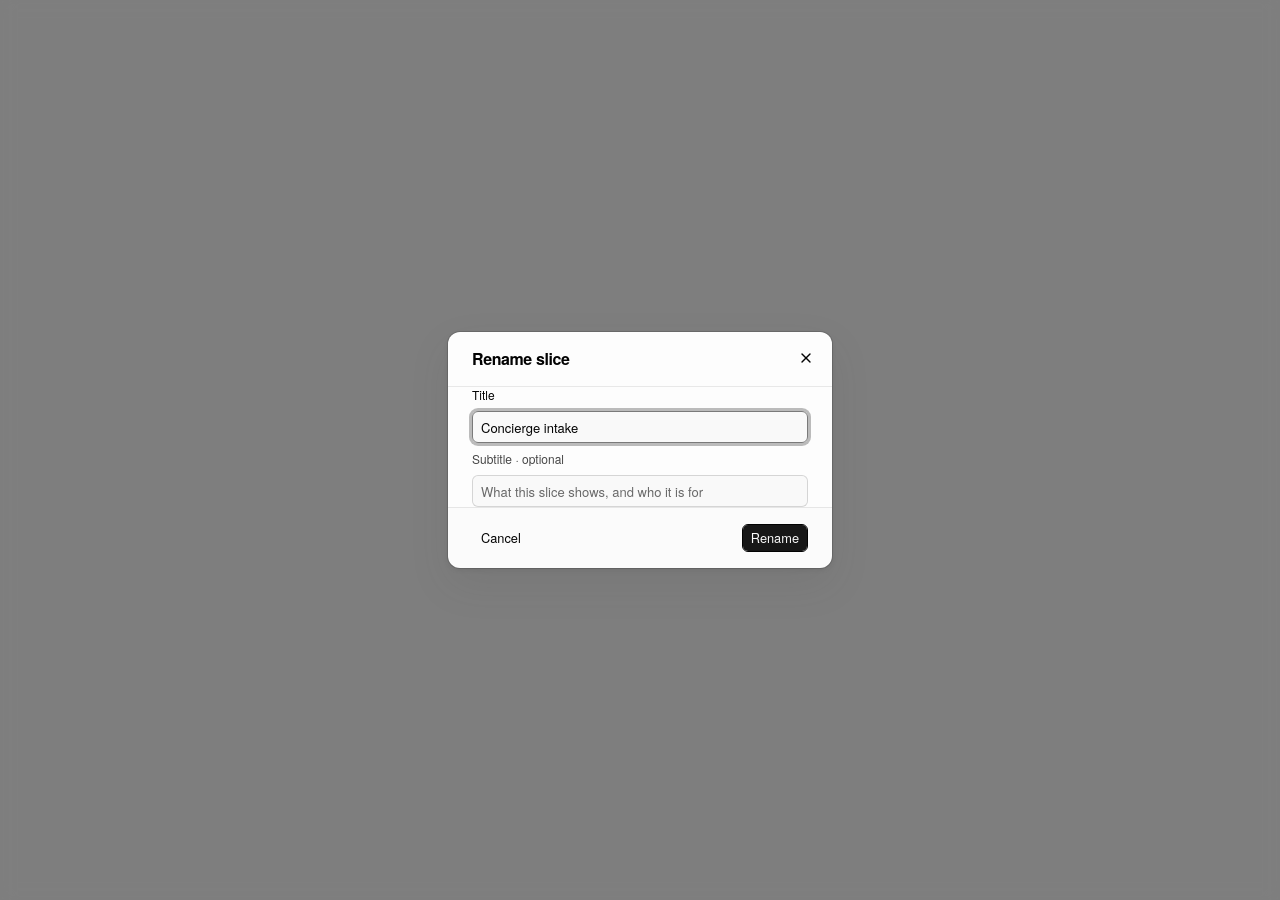
refuses a rename typed over a title someone else has since changed
Replace the text in the field labelled "Title" with "Concierge intake (v2)" at (640, 427), box [472,411,808,443]
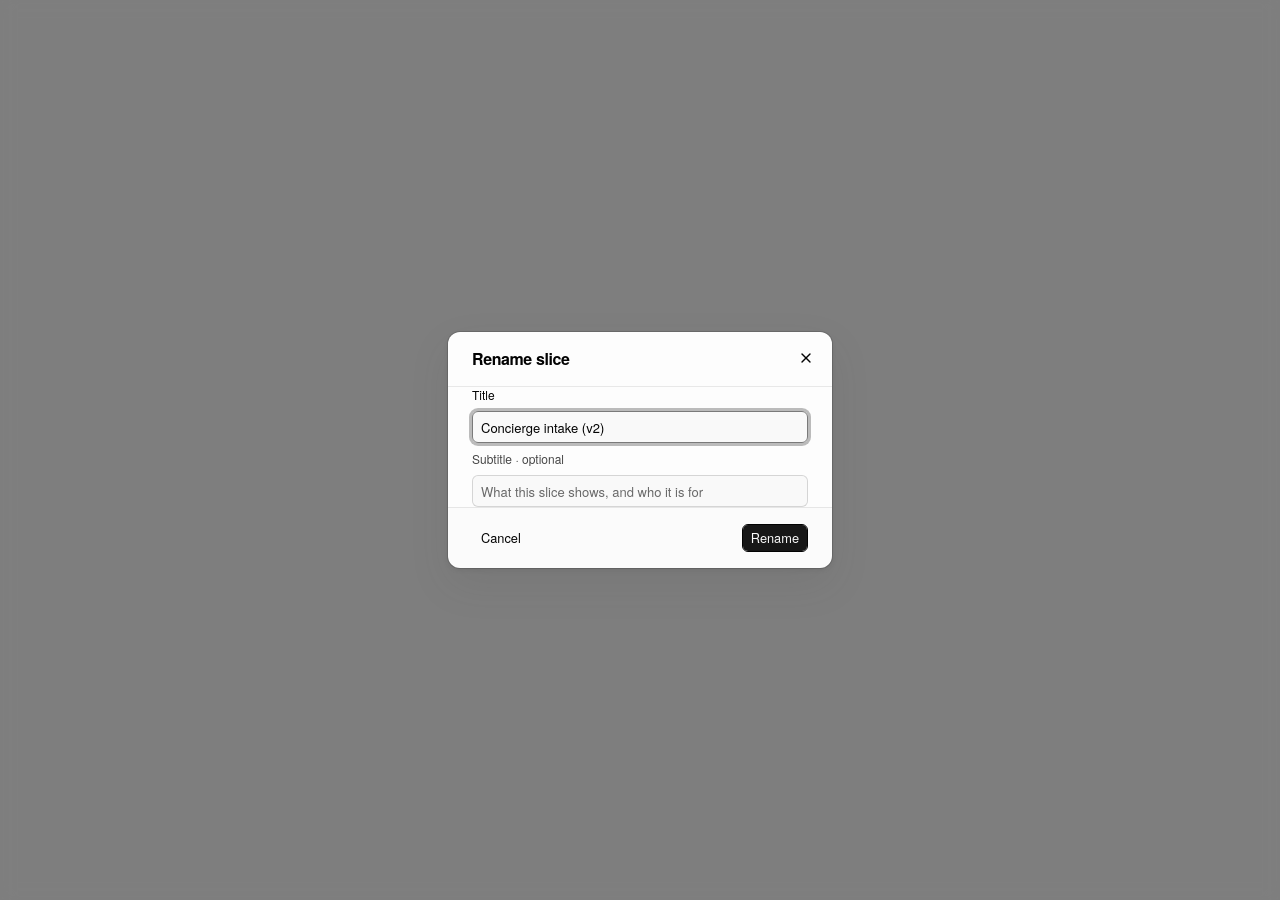
Click the button "Rename" at (775, 538), box [742,524,808,552]
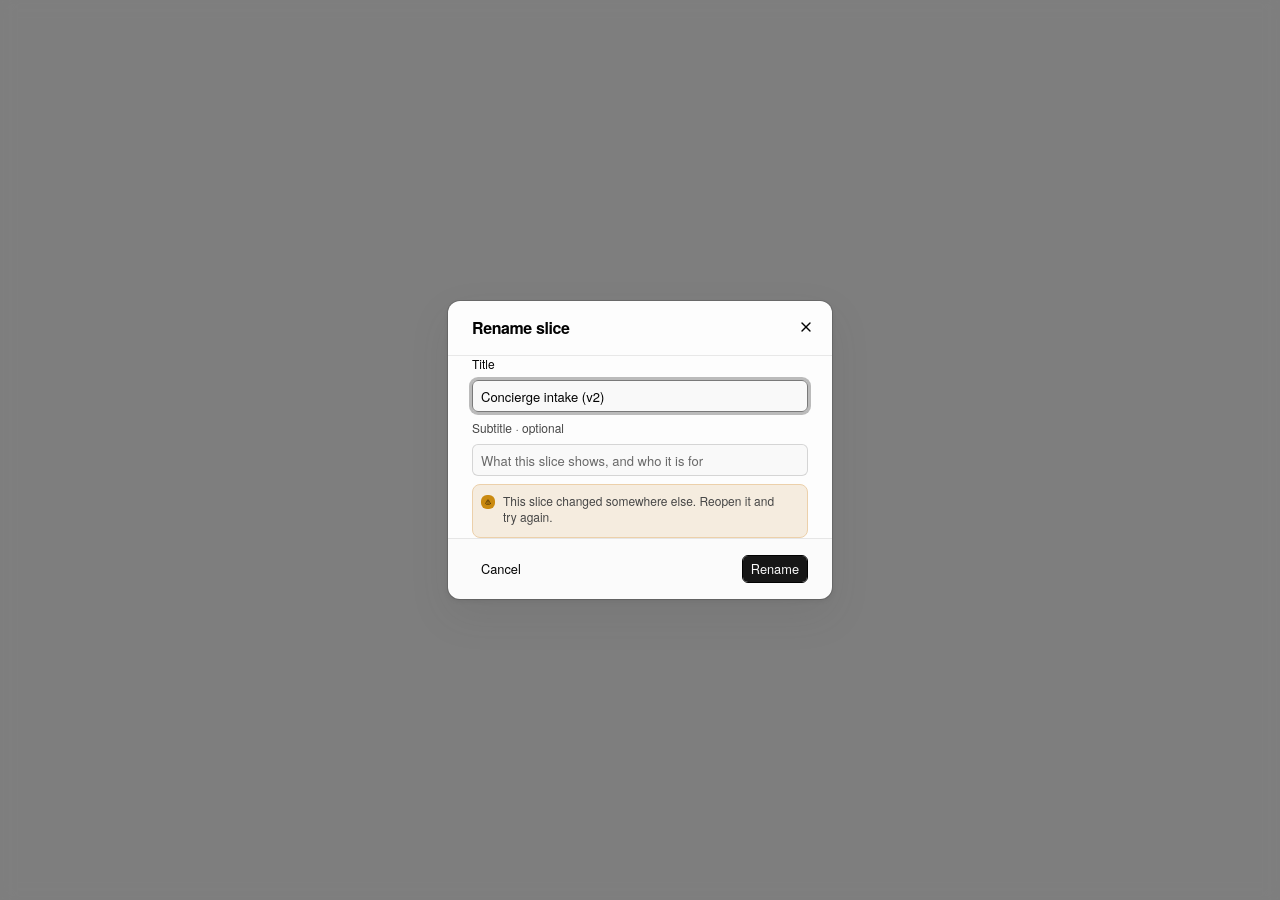
Expected: the text "This slice changed somewhere else. Reopen it and try again." is shown, [503,493,799,525]
